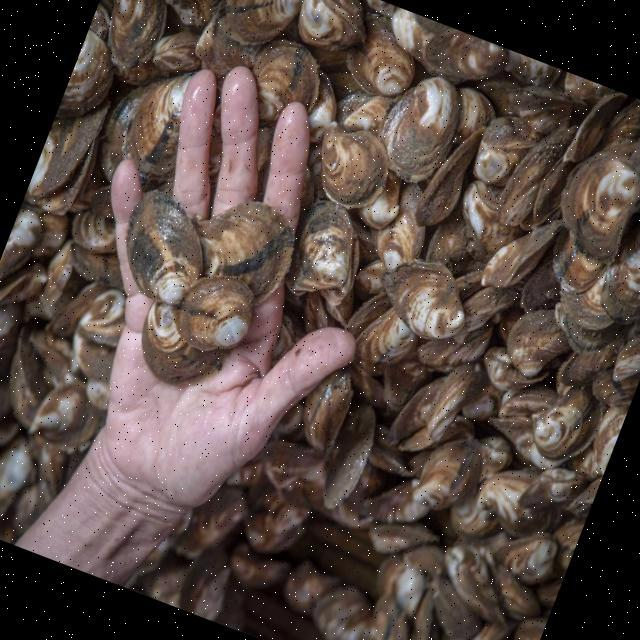Oyster-Closed: (561, 142, 639, 262), (196, 202, 295, 296), (390, 364, 486, 452), (381, 76, 459, 182), (129, 191, 202, 304), (500, 126, 576, 229), (128, 75, 191, 177), (417, 134, 483, 230), (384, 261, 464, 339), (144, 302, 219, 383), (462, 74, 582, 122), (178, 278, 254, 351), (252, 40, 319, 122), (324, 404, 376, 509), (175, 486, 248, 559), (296, 201, 354, 291), (322, 129, 388, 208), (564, 94, 640, 162), (58, 30, 114, 118), (486, 227, 568, 287), (414, 440, 481, 511), (478, 472, 552, 536), (445, 544, 505, 622), (245, 482, 310, 553), (532, 388, 596, 459), (425, 29, 508, 82), (195, 11, 259, 76), (96, 83, 144, 169), (378, 184, 425, 271), (9, 326, 49, 428), (571, 406, 628, 477), (355, 30, 415, 96), (508, 310, 566, 377), (426, 211, 486, 275), (602, 225, 640, 324), (305, 369, 352, 449), (110, 0, 166, 67), (556, 339, 622, 394), (419, 324, 492, 372), (225, 0, 301, 45), (38, 402, 105, 453), (299, 0, 365, 51), (450, 82, 510, 138), (356, 309, 416, 364), (430, 576, 481, 640), (30, 382, 88, 437), (391, 8, 450, 61), (561, 271, 614, 330), (312, 586, 371, 639), (554, 232, 605, 293), (259, 441, 324, 488), (49, 285, 106, 337), (500, 534, 558, 585), (555, 304, 615, 352), (379, 555, 426, 616), (364, 480, 430, 523), (230, 542, 290, 589), (491, 564, 540, 621), (0, 436, 34, 517), (484, 348, 548, 391), (78, 289, 125, 347), (181, 565, 231, 619), (0, 210, 40, 277), (311, 46, 361, 99), (520, 468, 585, 508), (384, 358, 431, 412), (359, 171, 401, 229), (464, 288, 519, 332), (146, 554, 190, 607), (338, 91, 394, 132), (520, 256, 560, 312), (30, 330, 71, 383), (284, 561, 325, 614), (30, 434, 66, 494), (12, 481, 52, 534), (325, 485, 374, 528), (72, 246, 122, 288), (369, 524, 439, 554), (309, 71, 338, 142), (74, 332, 115, 381), (450, 496, 499, 537), (166, 0, 220, 36), (72, 210, 116, 254), (154, 31, 200, 73), (0, 264, 48, 303), (507, 52, 561, 86), (499, 386, 558, 417), (46, 240, 74, 305), (592, 370, 640, 406), (371, 594, 409, 639), (32, 214, 67, 257), (480, 436, 512, 482), (462, 384, 501, 421), (565, 72, 610, 104), (565, 478, 601, 518), (411, 589, 439, 639), (304, 292, 338, 332), (612, 336, 640, 382), (404, 545, 445, 574), (356, 260, 386, 294), (0, 305, 22, 351), (554, 519, 584, 552), (25, 296, 59, 320), (86, 379, 110, 411), (536, 579, 561, 608), (472, 622, 514, 639), (514, 618, 546, 640), (91, 186, 112, 218)
Oyster-Open: (25, 101, 109, 214), (369, 425, 430, 477)
